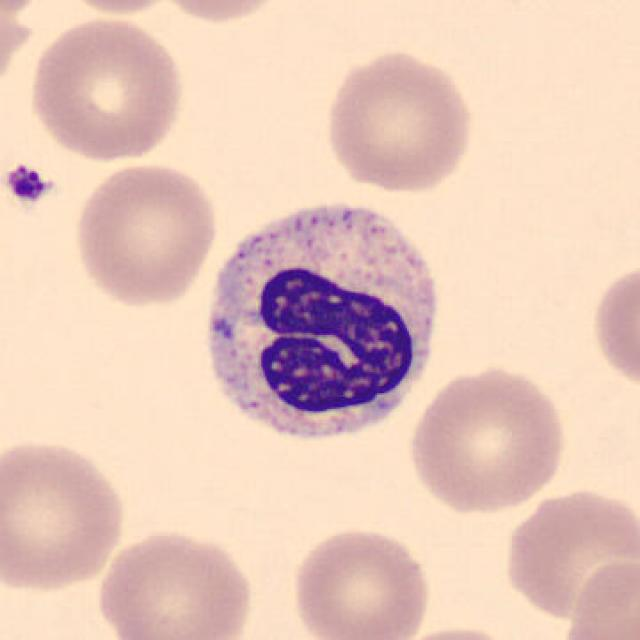Neutrophil: (192, 187, 452, 457)
Platelets: (2, 160, 53, 208)
RBC: (403, 362, 572, 516), (23, 12, 189, 164), (318, 46, 478, 196), (70, 159, 222, 310), (0, 434, 132, 596), (498, 483, 636, 624), (92, 525, 258, 640), (286, 522, 436, 640), (588, 254, 638, 400), (556, 553, 639, 640), (0, 0, 43, 106), (149, 0, 295, 26), (381, 622, 534, 640), (48, 0, 188, 16), (0, 0, 55, 21)
